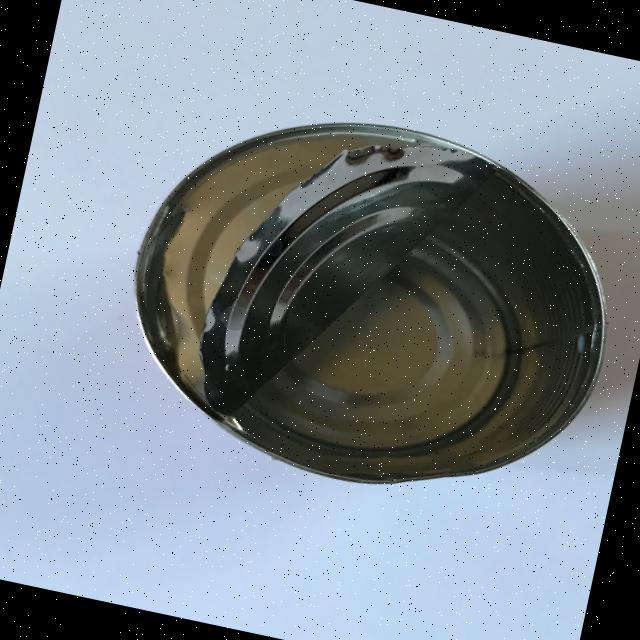metal: (98, 77, 640, 528)
